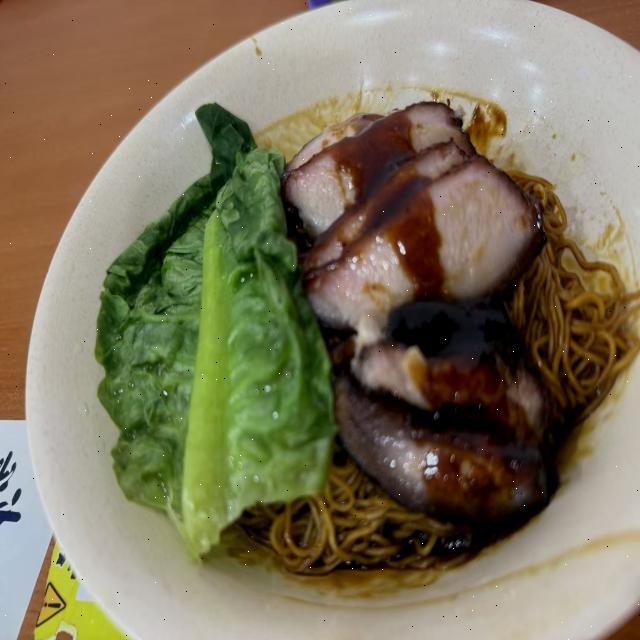Wantan Mee: (74, 11, 634, 602)
